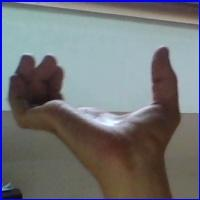B: (5, 40, 181, 174)
